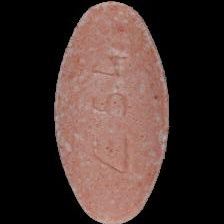10544-903: (0, 0, 224, 224)
